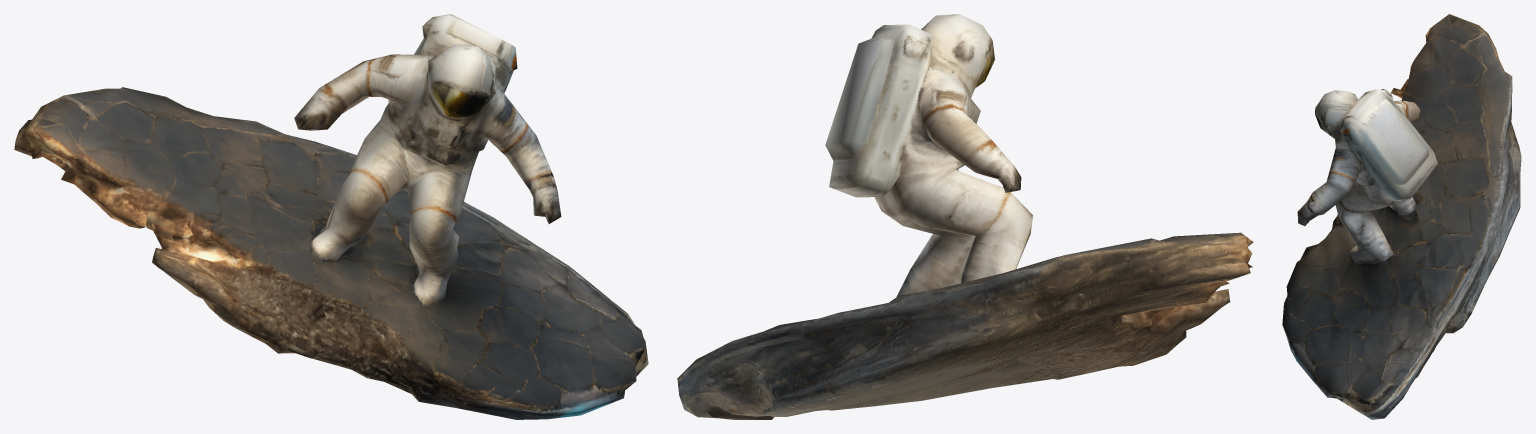
The model's file is heatshield.glb.
3 renders of one model, left to right at view 1: azimuth 30°, elevation 25°; view 2: azimuth 150°, elevation 25°; view 3: azimuth 270°, elevation 25°, orthographic. The views are drawn at different scales.
Parts seen in each view (by area): view 1: low; view 2: low; view 3: low.
Part boxes in pixels (box(x1,y1,x2,y2)): low: box(14, 14, 648, 419); low: box(677, 14, 1253, 419); low: box(1282, 14, 1521, 419).
Size of the model in its own units: 2 by 1.34 by 1.07.
Materials: 1 (1 with a texture image).
